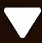dialog_hint_inverted: (2, 5, 42, 40)
